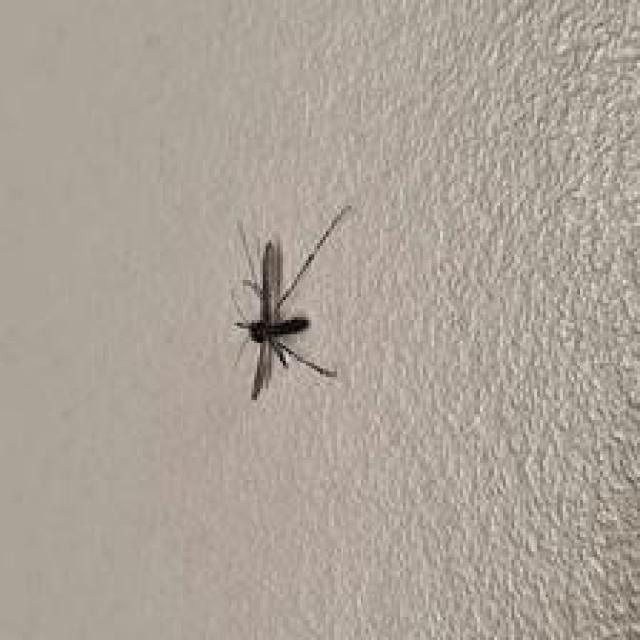Aedes albopictus: (227, 203, 353, 400)
